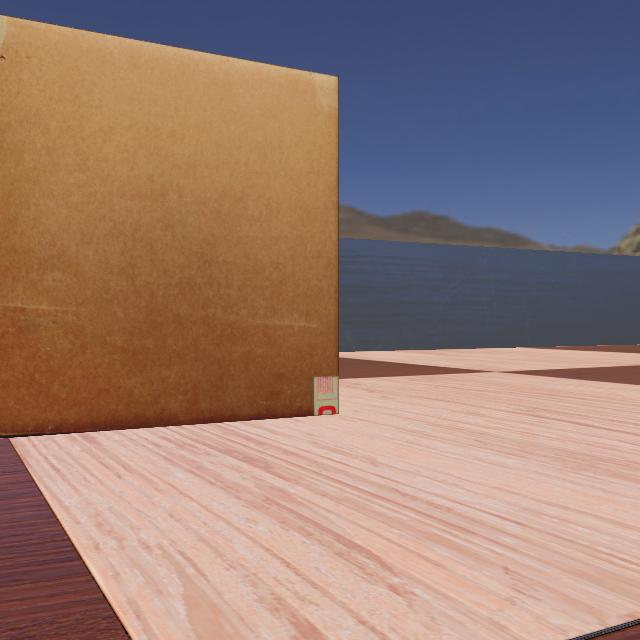cardboard-box: (0, 1, 344, 443)
